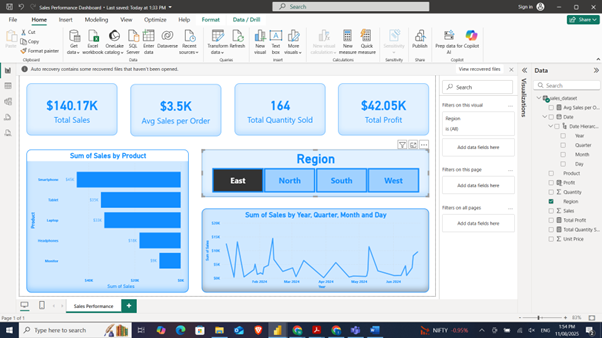

This screenshot's page, from the dashboard's own definition file:
{"tool":"powerbi","page":{"name":"Sales Performance","canvas":[1280,720],"ordinal":0},"visuals":[{"type":"card","fields":{"Values":["Sum(sales_dataset.Sales)"]},"box":[22,64.5,280,160.5],"z":0},{"type":"clusteredBarChart","fields":{"Category":["sales_dataset.Product"],"Y":["Sum(sales_dataset.Sales)"]},"box":[22,267.6,499.5,441.9],"z":1000},{"type":"slicer","title":"Region","fields":{"Values":["sales_dataset.Region"]},"box":[561.2,267.6,699.8,146.8],"z":2000},{"type":"lineChart","fields":{"Category":["sales_dataset.Date.Variation.Date Hierarchy.Year","sales_dataset.Date.Variation.Date Hierarchy.Quarter","sales_dataset.Date.Variation.Date Hierarchy.Month","sales_dataset.Date.Variation.Date Hierarchy.Day"],"Y":["Sum(sales_dataset.Sales)"]},"box":[561.2,450.1,699.8,259.3],"z":3000},{"type":"card","fields":{"Values":["sales_dataset.Avg Sales per Order"]},"box":[341.7,65.9,279.9,160.5],"z":4000},{"type":"card","fields":{"Values":["sales_dataset.Total Quantity Sold"]},"box":[662.8,64.5,279.9,160.5],"z":5000},{"type":"card","fields":{"Values":["sales_dataset.Total Profit"]},"box":[981.1,64.5,279.9,160.5],"z":6000}]}

Visuals, with their boxes on the page's 1280x720 design canvas (x1, y1, x2, y2). These are canvas units, not pixel positions in the 602x338 screenshot, which may show the page scaled, cropped or inside an application window:
card - Sum(sales_dataset.Sales): x1=22, y1=64, x2=302, y2=225
clusteredBarChart - sales_dataset.Product x Sum(sales_dataset.Sales): x1=22, y1=268, x2=522, y2=710
"Region" slicer: x1=561, y1=268, x2=1261, y2=414
lineChart - sales_dataset.Date.Variation.Date Hierarchy.Year x sales_dataset.Date.Variation.Date Hierarchy.Quarter: x1=561, y1=450, x2=1261, y2=709
card - sales_dataset.Avg Sales per Order: x1=342, y1=66, x2=622, y2=226
card - sales_dataset.Total Quantity Sold: x1=663, y1=64, x2=943, y2=225
card - sales_dataset.Total Profit: x1=981, y1=64, x2=1261, y2=225
